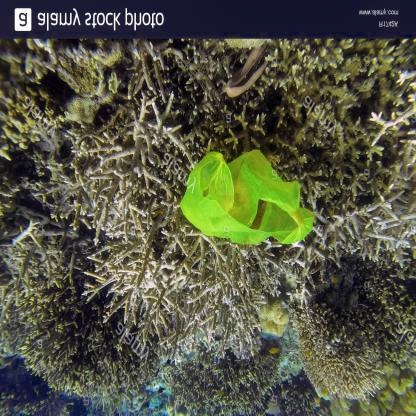pbag: (175, 142, 316, 250)
